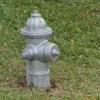a fire hydrant: (22, 12, 57, 88)
